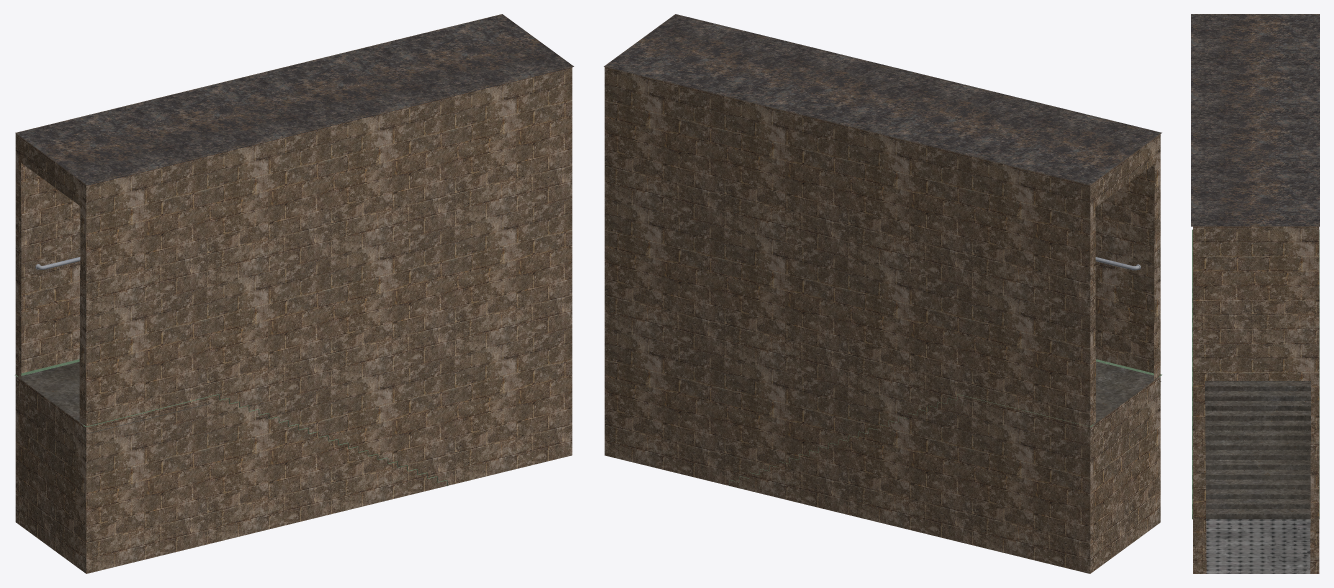
Rendered from Staircase.FBX.
3 renders of one model, left to right at view 1: azimuth 30°, elevation 25°; view 2: azimuth 150°, elevation 25°; view 3: azimuth 270°, elevation 25°, orthographic. The views are drawn at different scales.
Parts seen in each view (by area): view 1: Staircase, Stairs; view 2: Staircase, Stairs; view 3: Staircase, Stairs.
Boxes of the visible parts, bbox=[...] form: Staircase: bbox=[15, 14, 573, 573]; Stairs: bbox=[15, 359, 447, 485]; Staircase: bbox=[604, 14, 1161, 573]; Stairs: bbox=[729, 359, 1161, 485]; Staircase: bbox=[1191, 14, 1319, 573]; Stairs: bbox=[1192, 229, 1319, 519].
Size of the model in its own units: 155 by 118 by 39.71.
